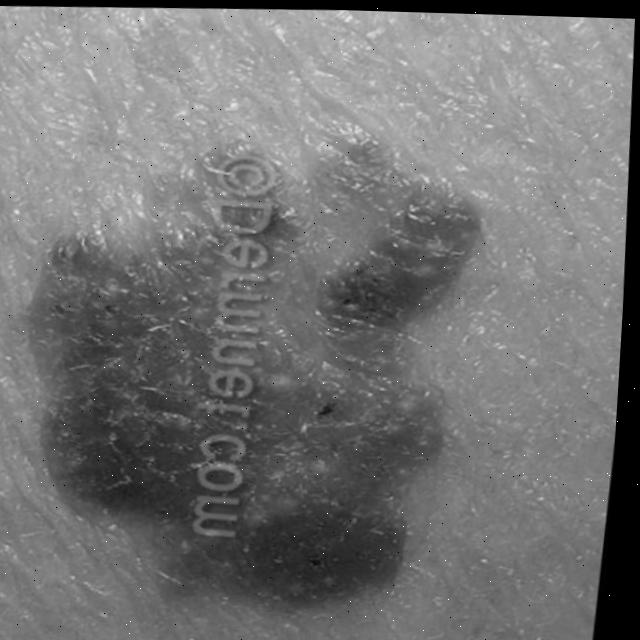Eczema: (57, 149, 480, 595)
